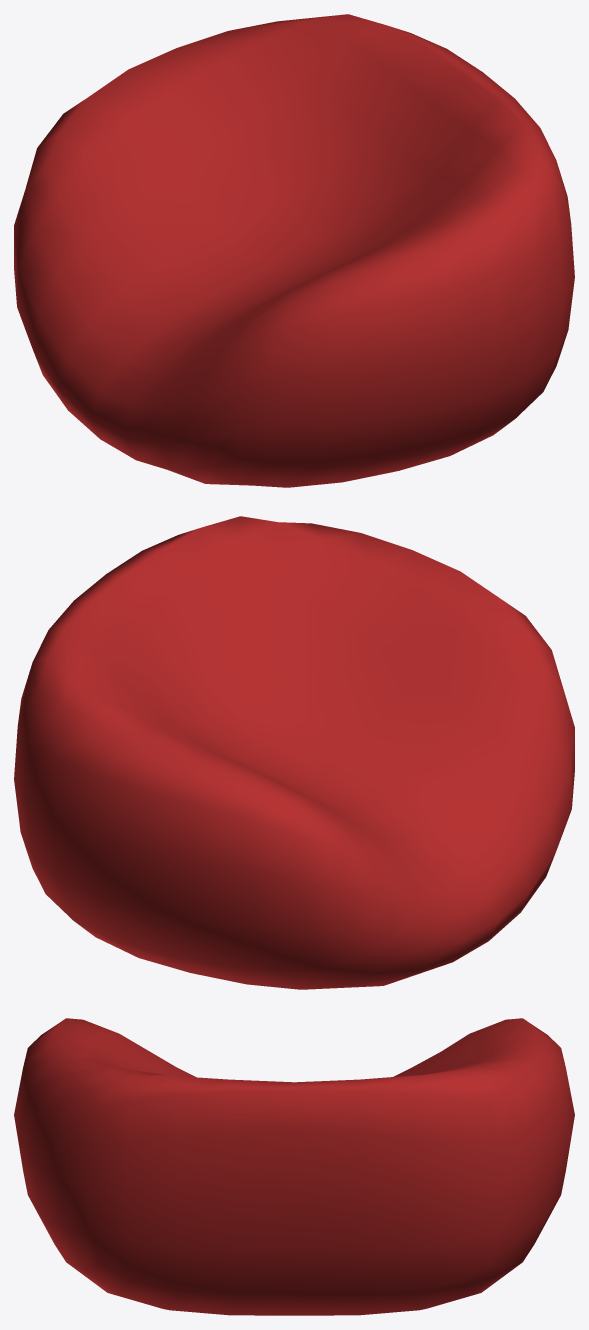
Rendered from beanbag_01_red.fbx.
3 renders of one model, top to bottom at view 1: azimuth 30°, elevation 25°; view 2: azimuth 150°, elevation 25°; view 3: azimuth 270°, elevation 25°, orthographic. The views are drawn at different scales.
Parts seen in each view (by area): view 1: beanbag_01_red; view 2: beanbag_01_red; view 3: beanbag_01_red.
Part boxes in pixels (x1,y1,x2,y2): beanbag_01_red: (14,14,574,487); beanbag_01_red: (14,516,574,989); beanbag_01_red: (14,1018,574,1315).
Bounding box in the file's own units: 84.93 × 60.58 × 112.
Materials: 1 (1 with a texture image).
